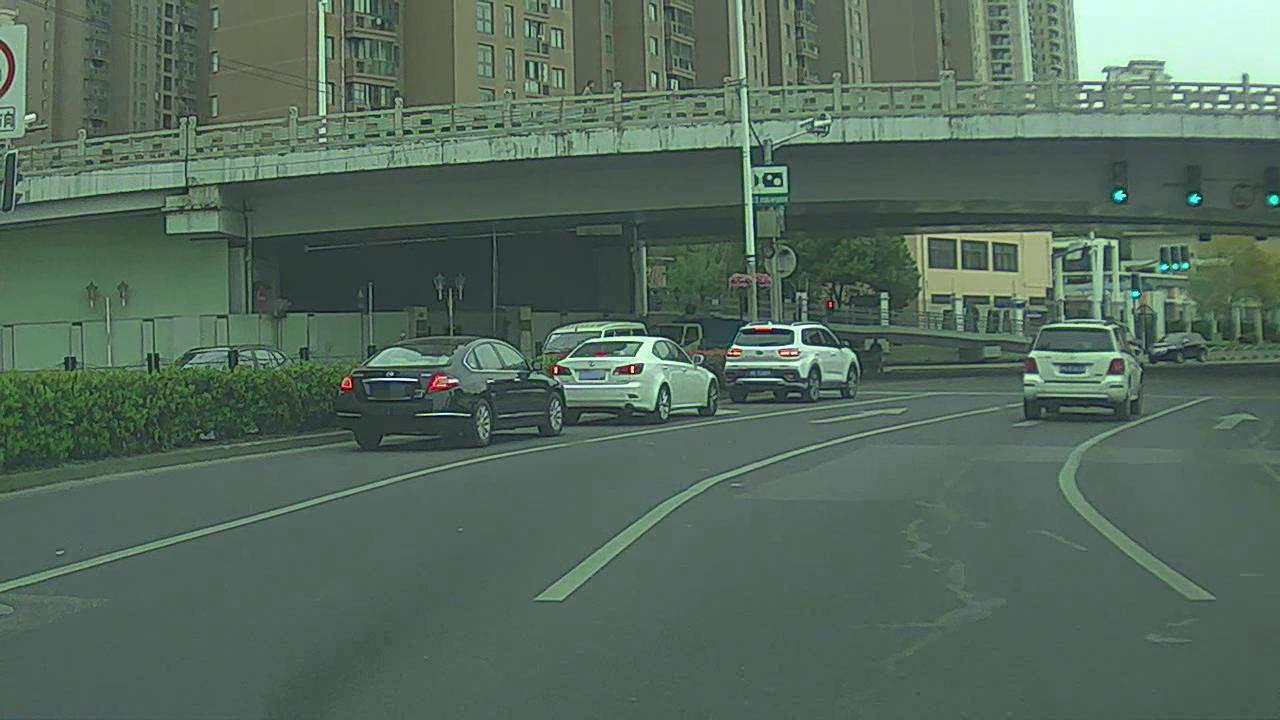traffic_light: (1185, 163, 1205, 208), (1114, 161, 1131, 205), (1266, 166, 1280, 209), (1130, 274, 1142, 301), (1158, 247, 1169, 272), (1179, 245, 1190, 270), (1169, 246, 1179, 273)
